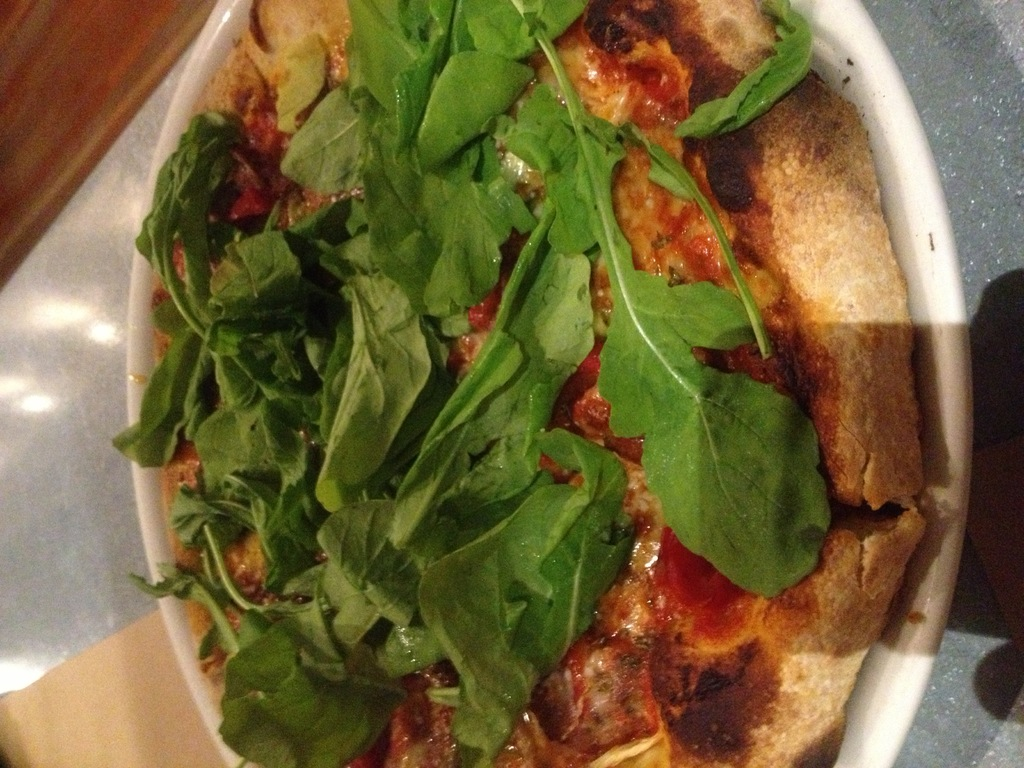Pizza: (103, 0, 922, 767)
